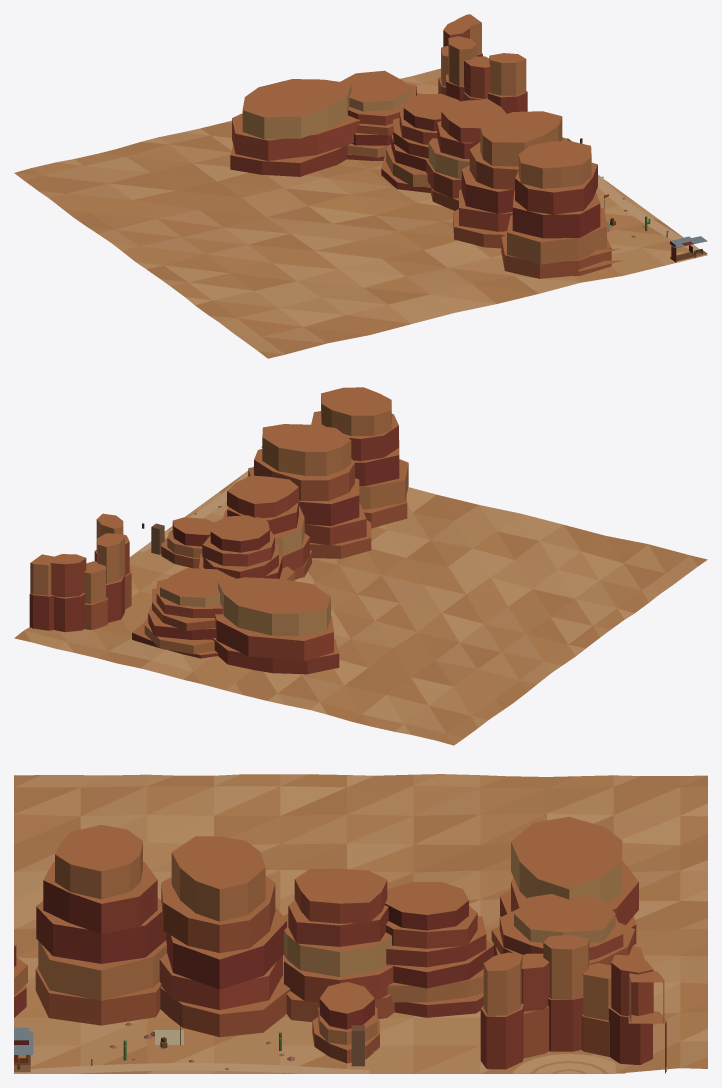
The picture shows the model from 3 angles, top to bottom: view 1: azimuth 30°, elevation 25°; view 2: azimuth 150°, elevation 25°; view 3: azimuth 270°, elevation 25°; orthographic projection. The views are drawn at different scales.
Parts seen in each view (by area): view 1: baked; view 2: baked; view 3: baked.
Boxes of the visible parts, box(x1,y1,x2,y2) form: baked: box(14, 14, 707, 358); baked: box(14, 387, 707, 745); baked: box(14, 774, 707, 1073).
Size of the model in its own units: 125 by 28.97 by 125.
